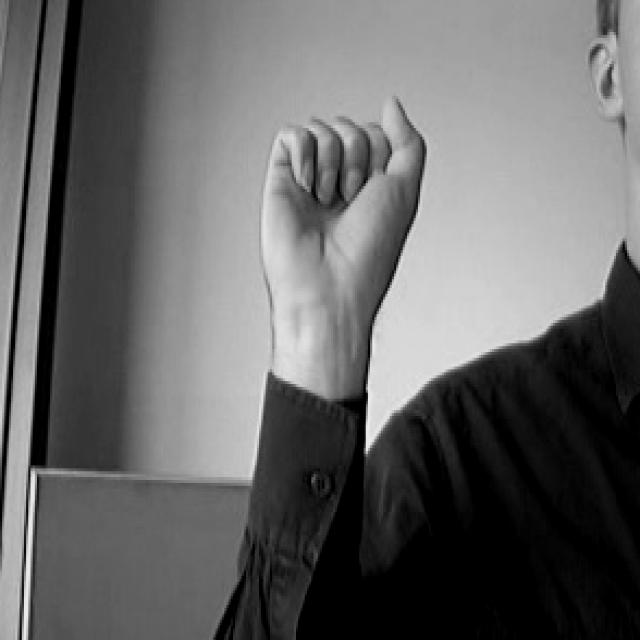A: (247, 77, 442, 291)
